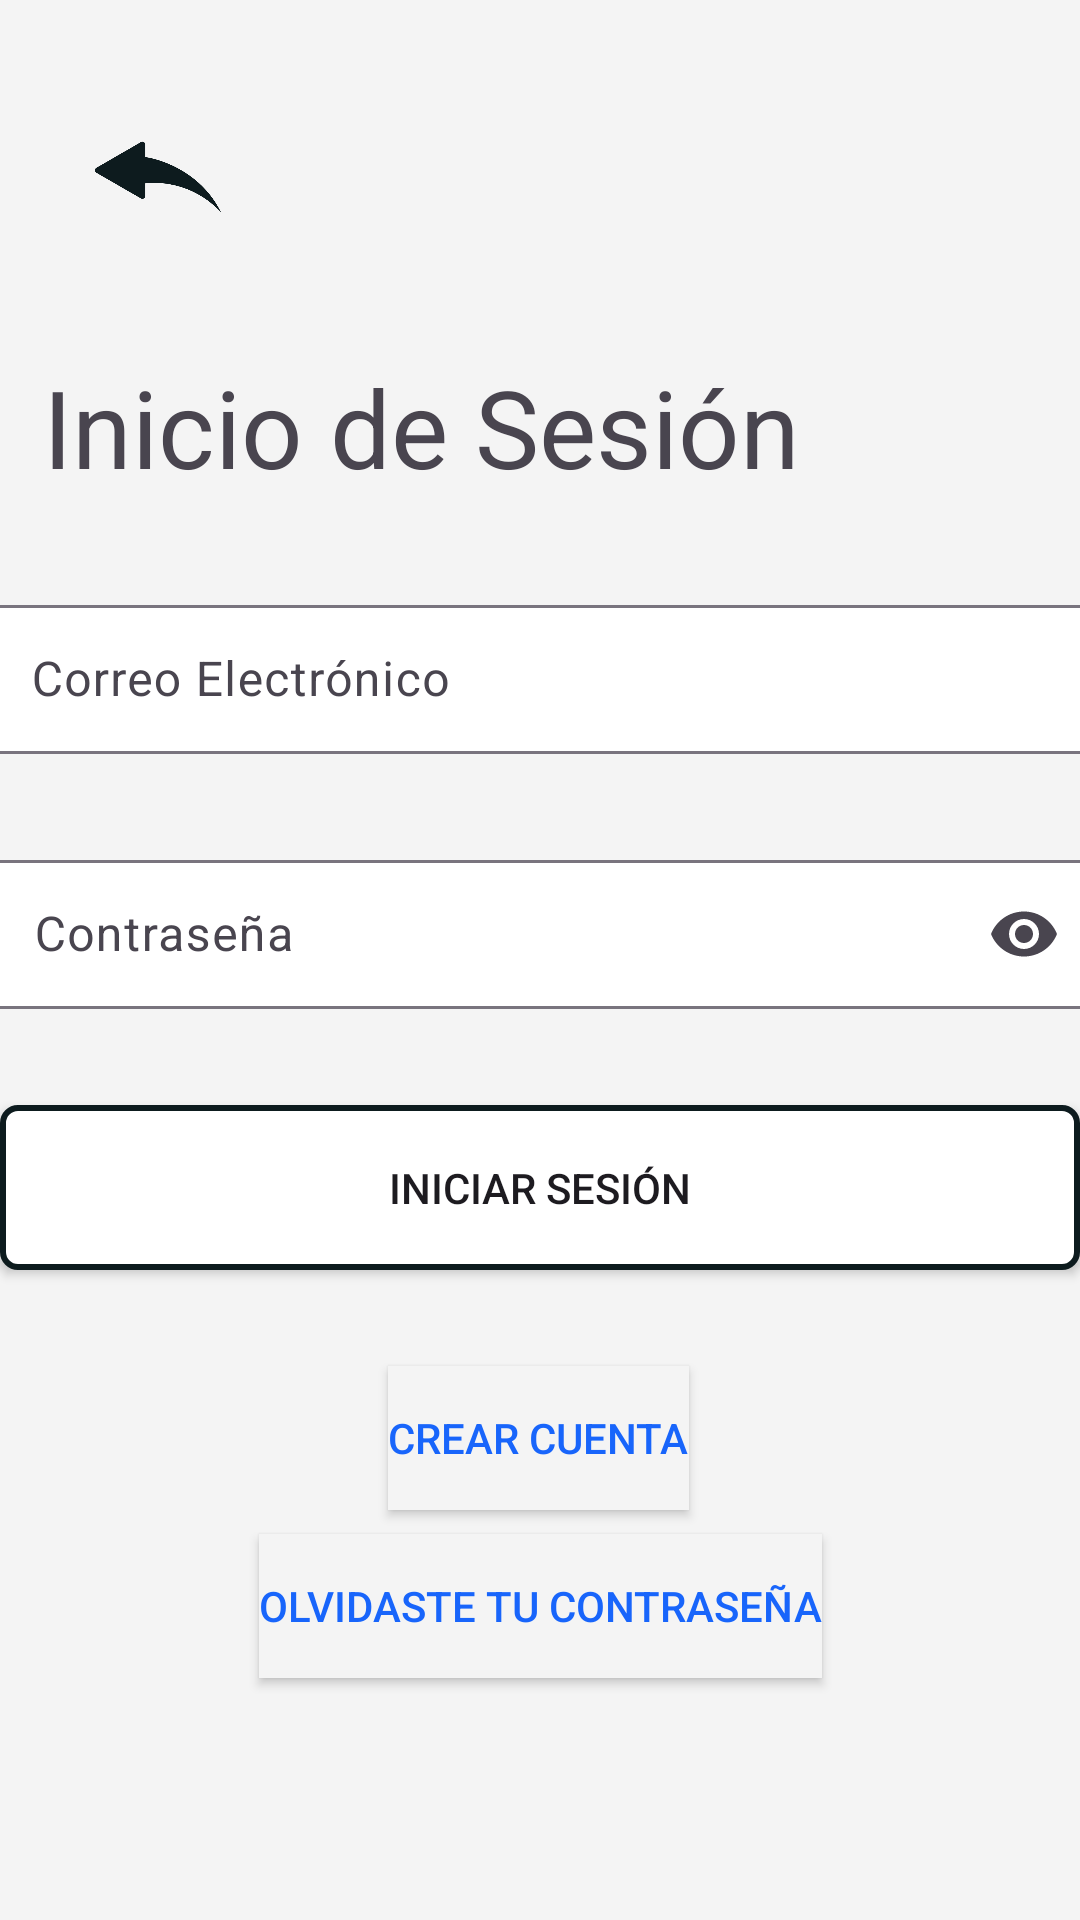

Screen size 1080*1920. Icon name, then its box in pixels as box=[x1, y1, x2, y2]:
regreso: box=[95, 141, 221, 212]
